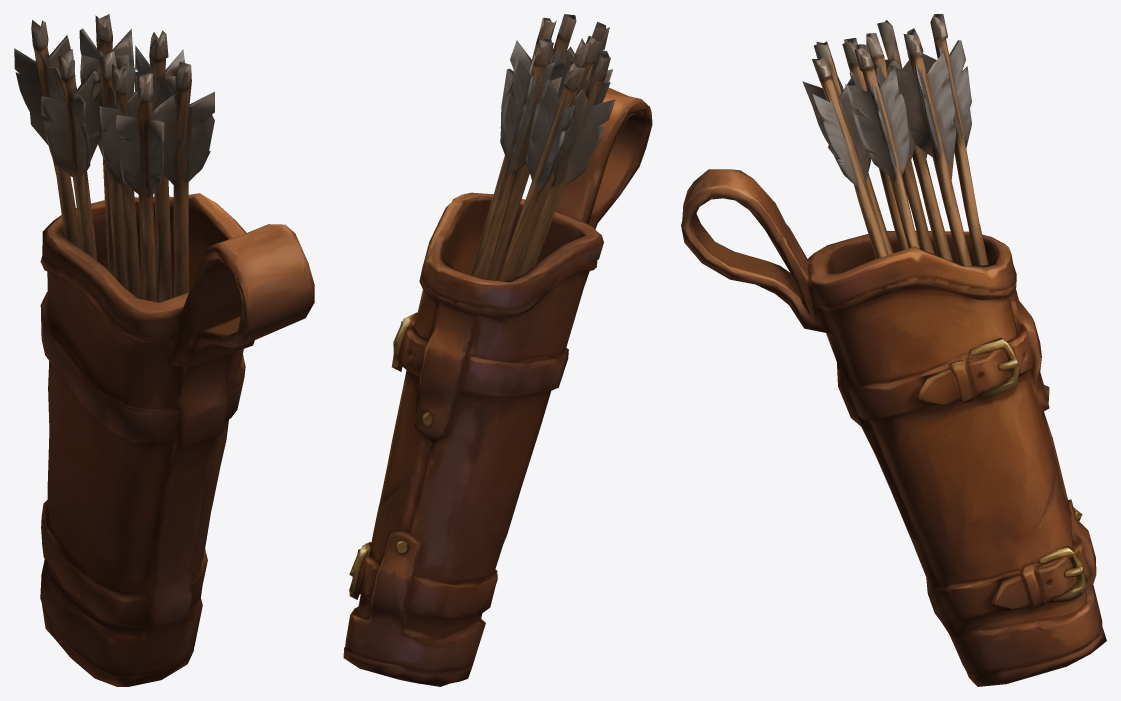
File: quiver.glb
3 views of the same model, side by side, from view 1: azimuth 30°, elevation 25°; view 2: azimuth 150°, elevation 25°; view 3: azimuth 270°, elevation 25° (orthographic). The views are drawn at different scales.
Parts seen in each view (by area): view 1: quiver; view 2: quiver; view 3: quiver.
Part boxes in pixels (bbox=[...]): quiver: bbox=[14, 14, 314, 686]; quiver: bbox=[343, 14, 652, 686]; quiver: bbox=[681, 14, 1106, 686].
Bounding box in the file's own units: 0.2322 × 0.7156 × 0.4528.
Materials: 1 (1 with a texture image).
